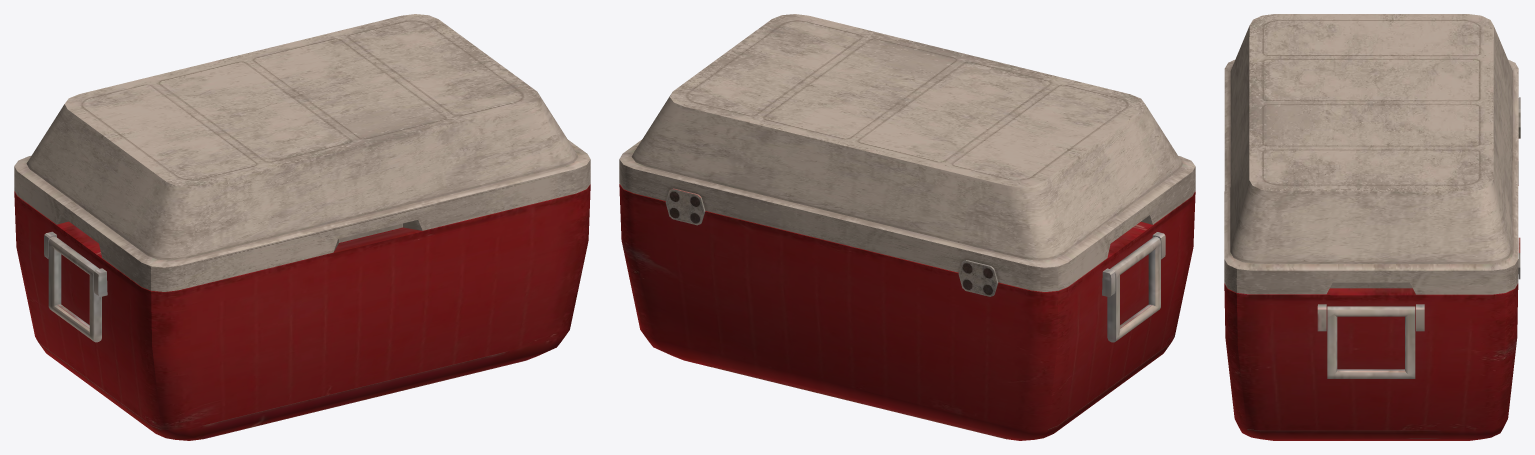
File: esky_cooler-opt.glb
The picture shows the model from 3 angles, left to right: view 1: azimuth 30°, elevation 25°; view 2: azimuth 150°, elevation 25°; view 3: azimuth 270°, elevation 25°; orthographic projection.
Visible parts, largest first — view 1: defaultMaterial; view 2: defaultMaterial; view 3: defaultMaterial.
Boxes of the visible parts, box(x1,y1,x2,y2) form: defaultMaterial: box(14, 14, 590, 440); defaultMaterial: box(619, 14, 1195, 440); defaultMaterial: box(1224, 14, 1520, 440).
Size of the model in its own units: 1.02 by 0.5431 by 0.5792.
Materials: 1 (1 with a texture image).
